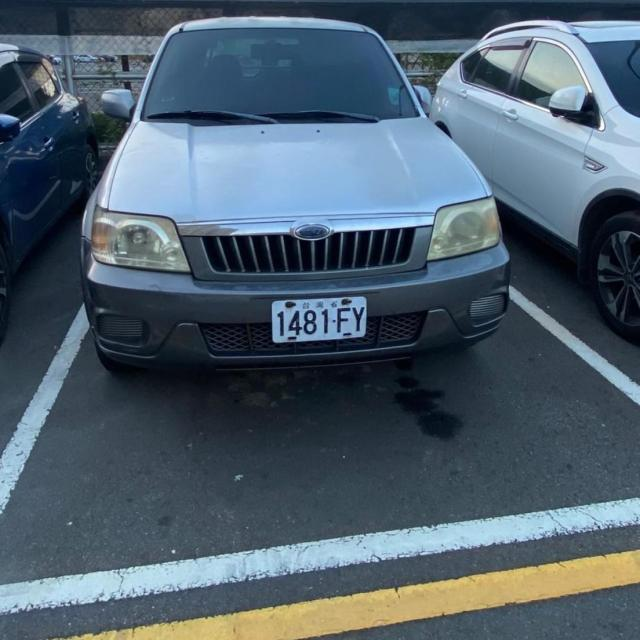W: (272, 298, 366, 342)
